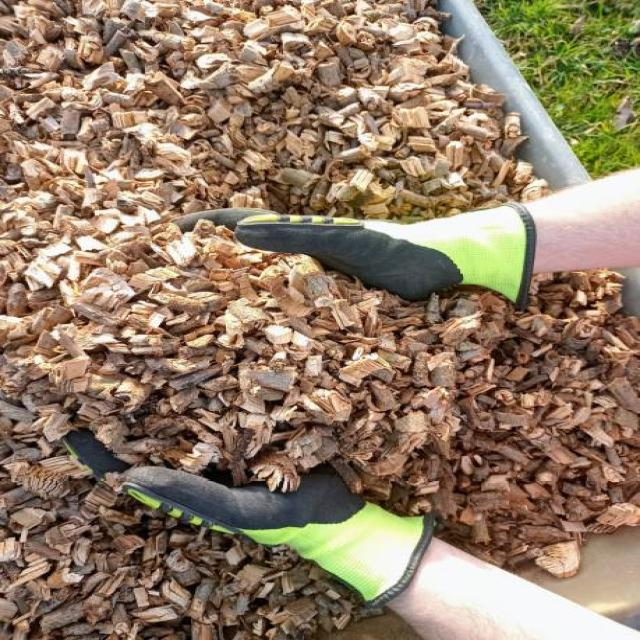Gloves: (39, 392, 497, 608), (130, 187, 550, 328)
